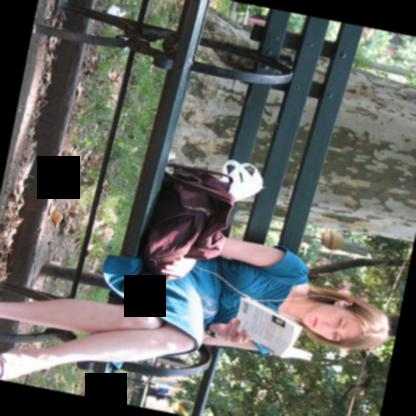handbag: (141, 167, 230, 270)
